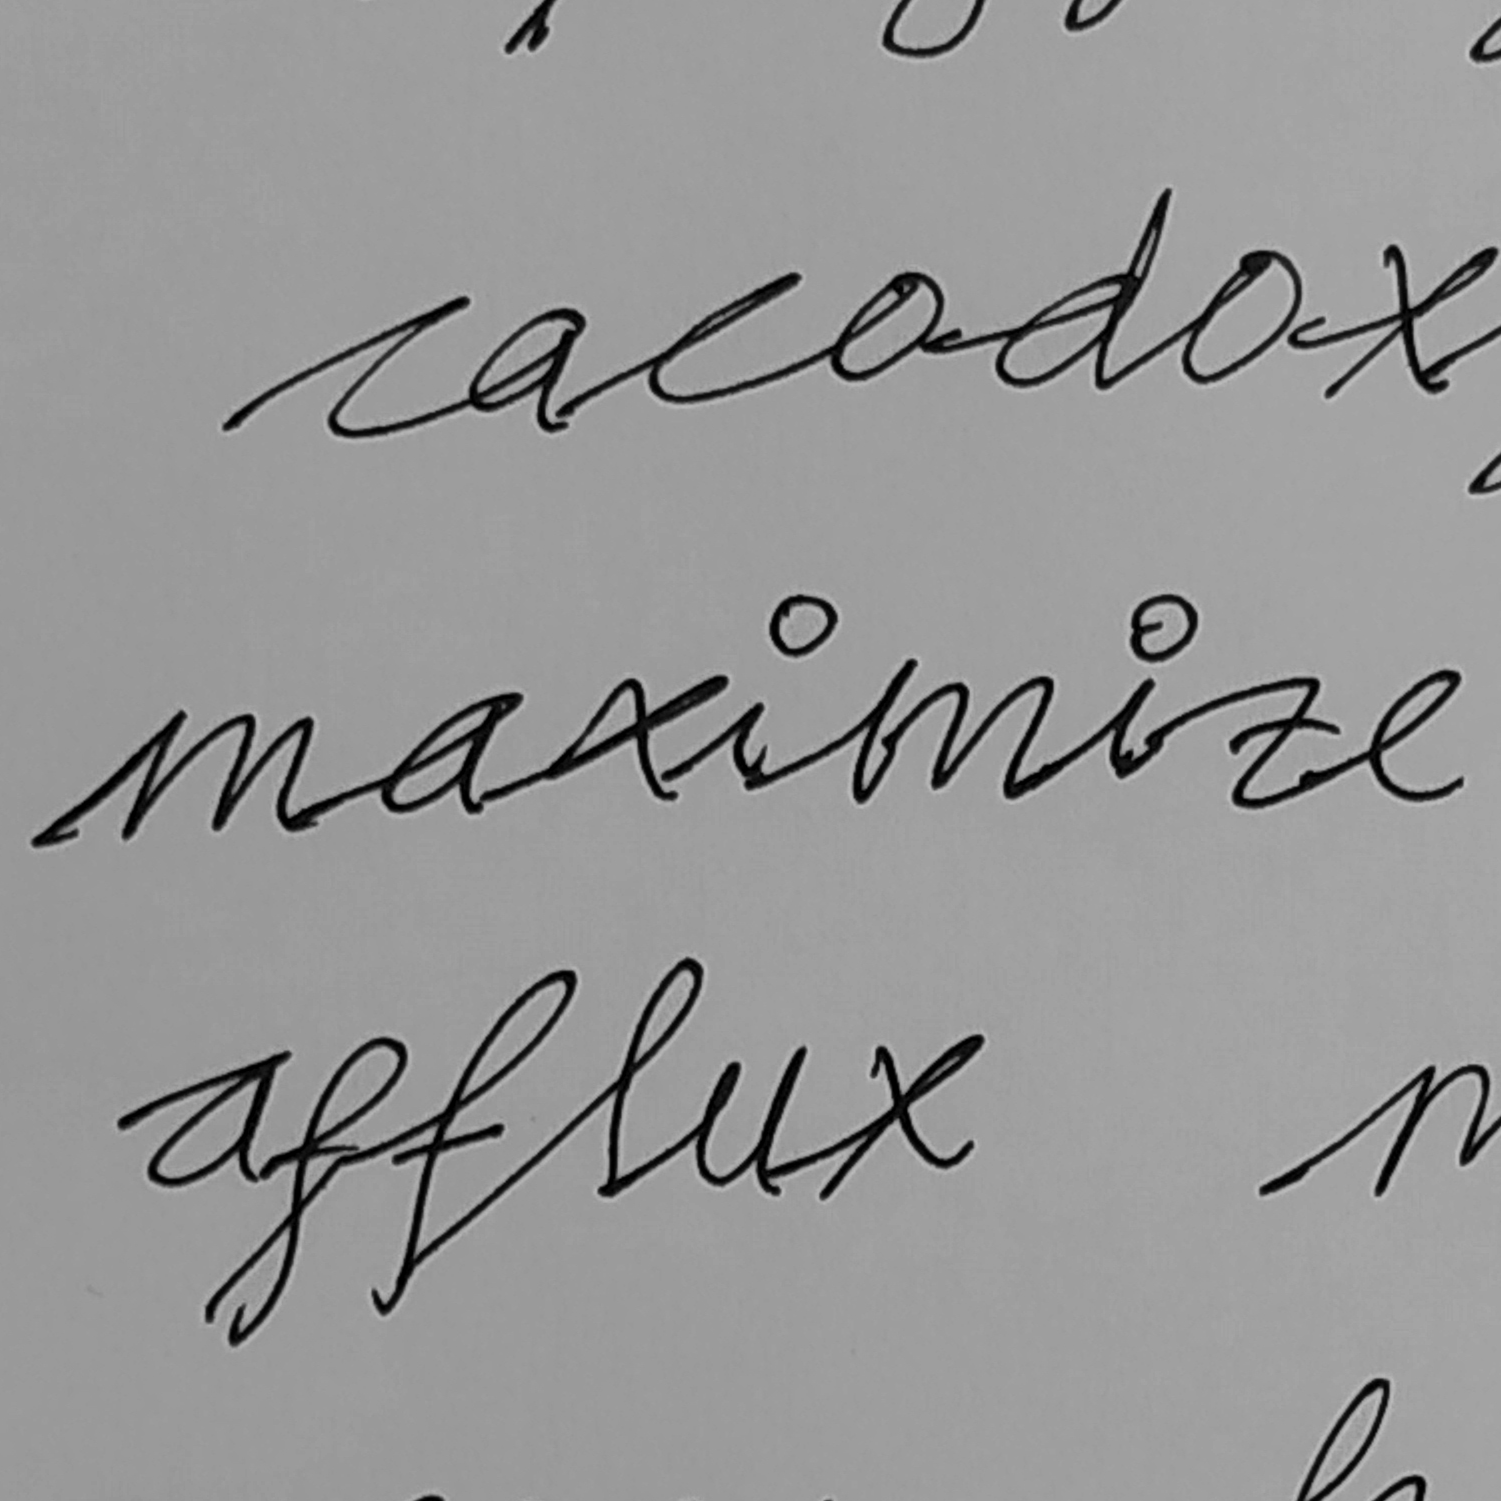a: (378, 689, 526, 818)
e: (1364, 663, 1476, 808)
i: (727, 590, 837, 793), (1098, 590, 1201, 783)
m: (845, 653, 1058, 807), (115, 704, 319, 844)
x: (544, 671, 733, 805)
z: (1223, 672, 1344, 816)
